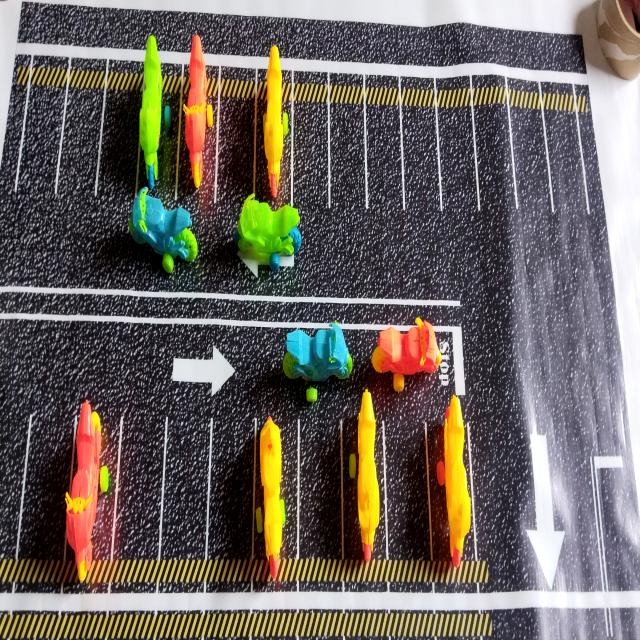bikes: (129, 187, 197, 273), (283, 322, 352, 402), (235, 193, 301, 269), (372, 318, 440, 391)
occupied: (64, 399, 119, 581), (340, 389, 389, 563), (428, 395, 475, 568), (136, 35, 182, 208), (178, 34, 218, 213), (250, 418, 299, 560), (255, 46, 292, 210)
others: (597, 0, 640, 79)
slots: (113, 390, 167, 559), (161, 388, 210, 558), (20, 410, 75, 559), (209, 402, 257, 559), (385, 415, 430, 559), (437, 77, 479, 219), (301, 418, 340, 558), (545, 94, 589, 214), (18, 90, 64, 197), (402, 102, 442, 225), (59, 90, 103, 195), (511, 106, 553, 215), (100, 90, 140, 196), (475, 105, 515, 206), (366, 103, 402, 211), (330, 104, 365, 212), (294, 101, 328, 211), (218, 100, 253, 199), (402, 80, 433, 99)
